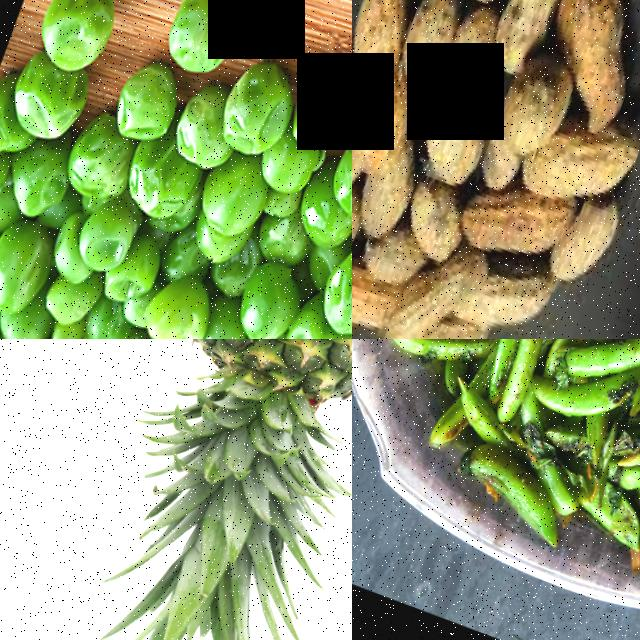peanuts: (411, 46, 507, 183), (543, 97, 640, 207), (545, 181, 628, 293), (467, 243, 561, 339), (454, 181, 551, 269), (352, 128, 424, 245), (543, 0, 640, 75), (391, 0, 468, 94), (352, 0, 426, 97), (396, 174, 469, 266), (488, 0, 601, 59), (377, 256, 453, 339)
peas: (0, 0, 352, 339)
pineapple: (122, 339, 352, 508)
